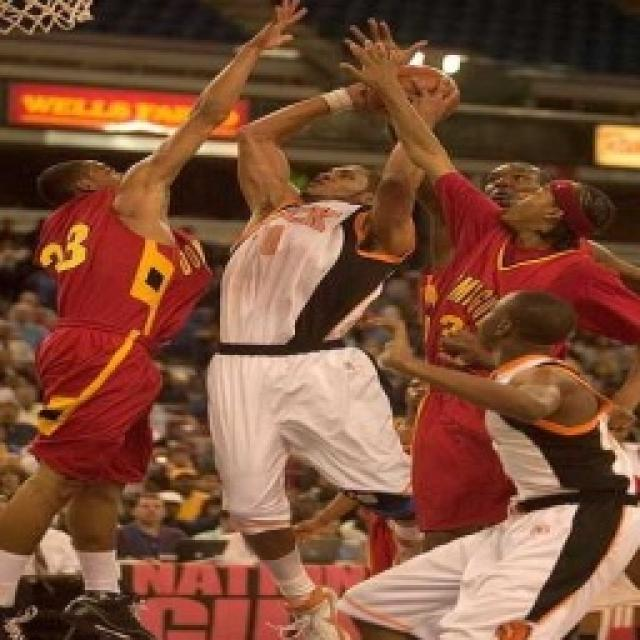rim: (372, 55, 474, 132)
